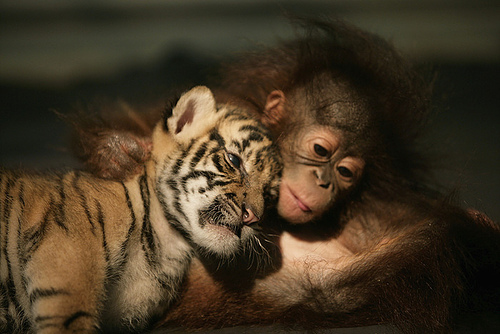Tigre: (155, 90, 273, 257)
